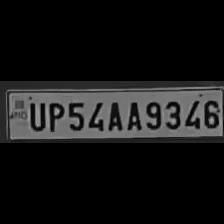3: (162, 97, 180, 129)
4: (85, 98, 105, 132), (182, 96, 200, 130)
5: (64, 98, 84, 132)
6: (200, 96, 220, 128)
9: (142, 98, 160, 130)
A: (105, 98, 123, 130), (124, 98, 140, 130)
P: (45, 100, 63, 132)
U: (26, 98, 44, 132)
